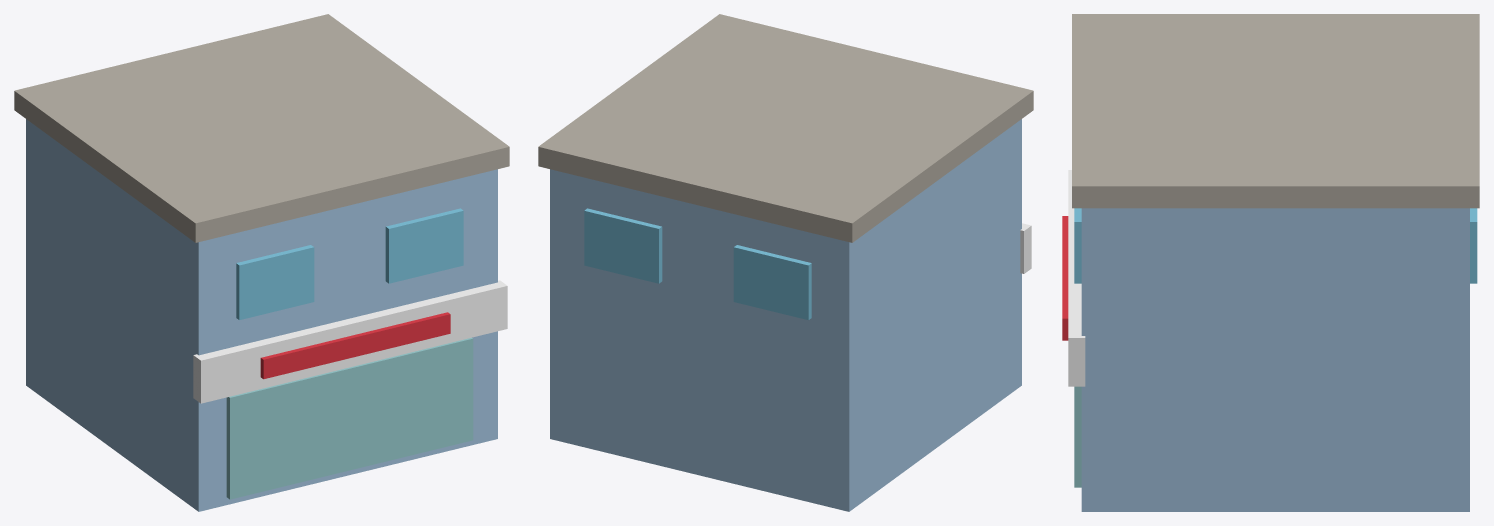
The model's file is shop_2.glb.
The picture shows the model from 3 angles, left to right: view 1: azimuth 30°, elevation 25°; view 2: azimuth 150°, elevation 25°; view 3: azimuth 270°, elevation 25°; orthographic projection. The views are drawn at different scales.
Parts seen in each view (by area): view 1: shop_2_wall_blue, shop_2_roof_flat, shop_2_glass, shop_2_white, shop_2_window, shop_2_red; view 2: shop_2_wall_blue, shop_2_roof_flat, shop_2_window, shop_2_white; view 3: shop_2_wall_blue, shop_2_roof_flat, shop_2_white, shop_2_window, shop_2_red, shop_2_glass.
Boxes of the visible parts, bbox=[...] form: shop_2_wall_blue: bbox=[26, 119, 497, 511]; shop_2_roof_flat: bbox=[14, 14, 509, 242]; shop_2_glass: bbox=[226, 337, 473, 499]; shop_2_white: bbox=[193, 280, 507, 403]; shop_2_window: bbox=[236, 208, 463, 320]; shop_2_red: bbox=[260, 312, 450, 379]; shop_2_wall_blue: bbox=[550, 119, 1021, 511]; shop_2_roof_flat: bbox=[538, 14, 1033, 242]; shop_2_window: bbox=[584, 208, 811, 320]; shop_2_white: bbox=[1020, 223, 1031, 273]; shop_2_wall_blue: bbox=[1081, 208, 1469, 511]; shop_2_roof_flat: bbox=[1072, 14, 1479, 208]; shop_2_white: bbox=[1068, 170, 1085, 386]; shop_2_window: bbox=[1074, 208, 1477, 283]; shop_2_red: bbox=[1062, 216, 1068, 340]; shop_2_glass: bbox=[1074, 386, 1081, 487].
Bounding box in the file's own units: 8.4 × 7.5 × 8.6.
